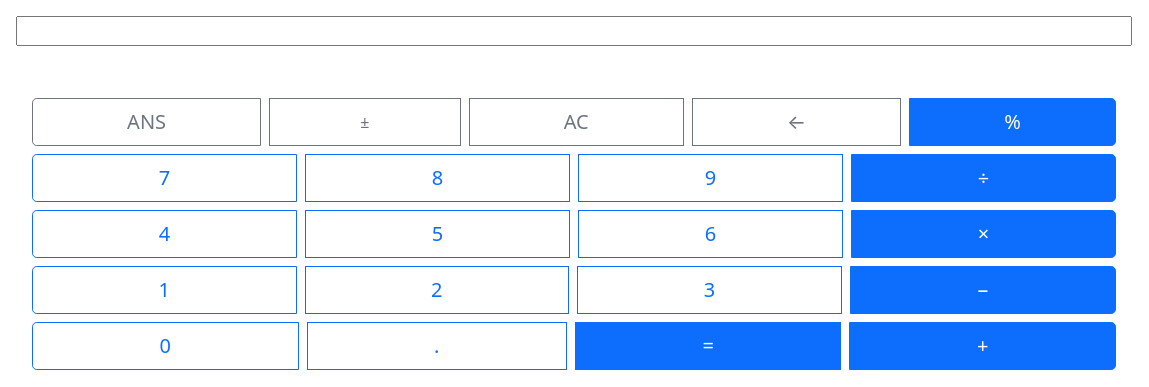
Test: Portfolio App Testing › Validar la operación módulo
Click the button "1" at x=164, y=290, box [32,266,297,314]
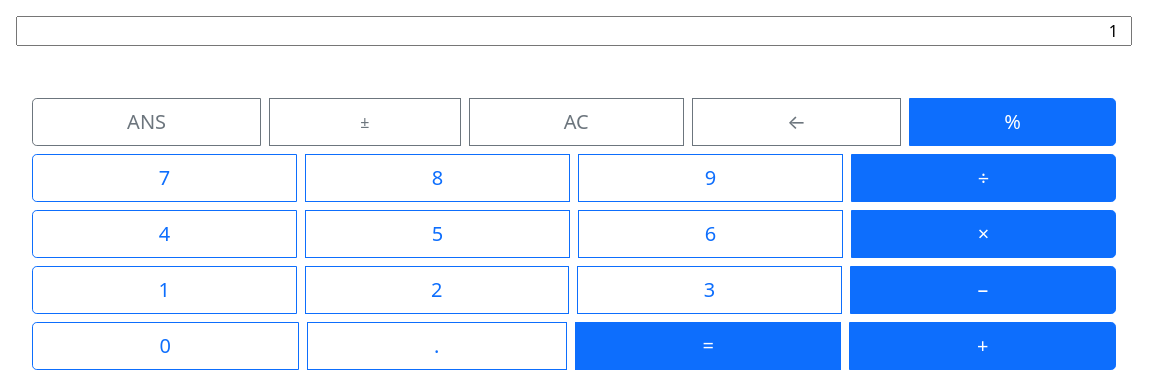
Click the button "2" at x=437, y=290, box [305,266,569,314]
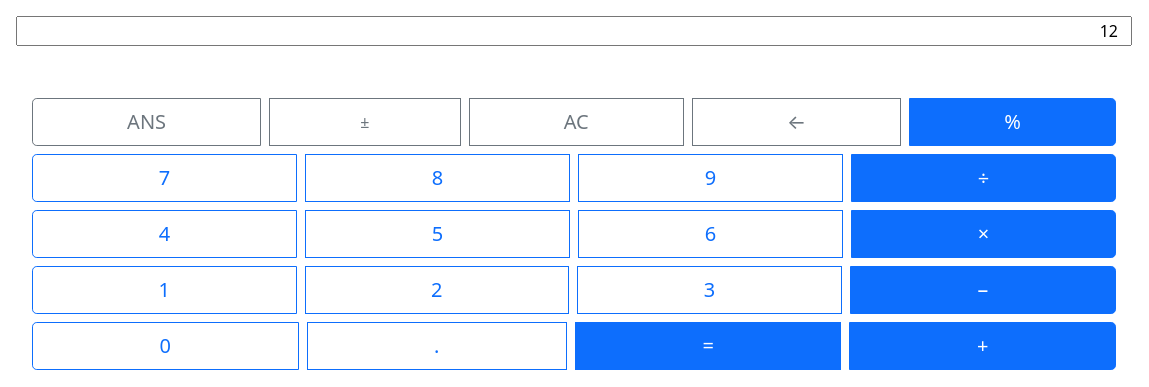
# Se da click al boton de operación módulo (%)
Click the button "%" at x=1012, y=122, box [909,98,1116,146]
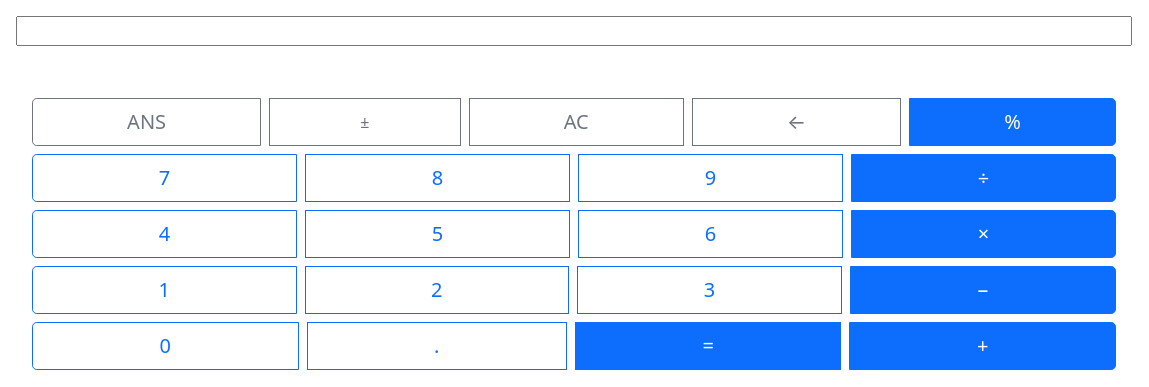
# Se ingresa otro número (7)
Click the button "7" at x=164, y=178, box [32,154,297,202]
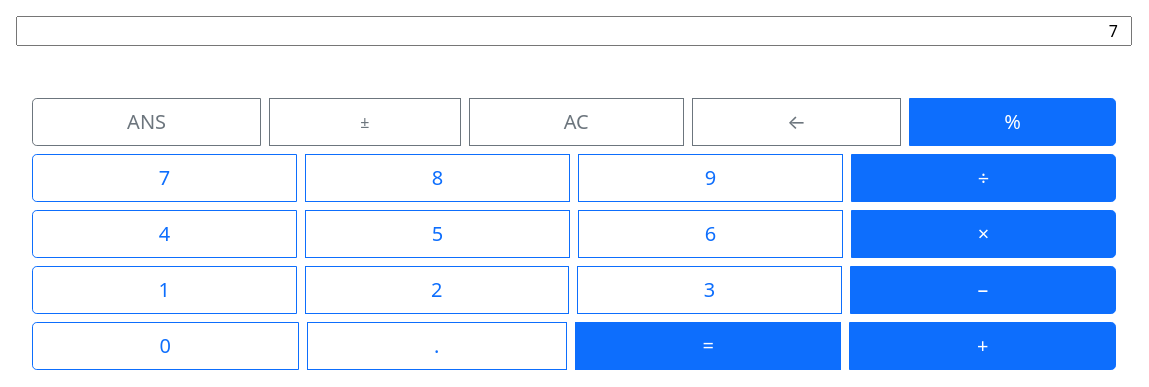
Click the button "=" at x=708, y=346, box [575,322,842,370]
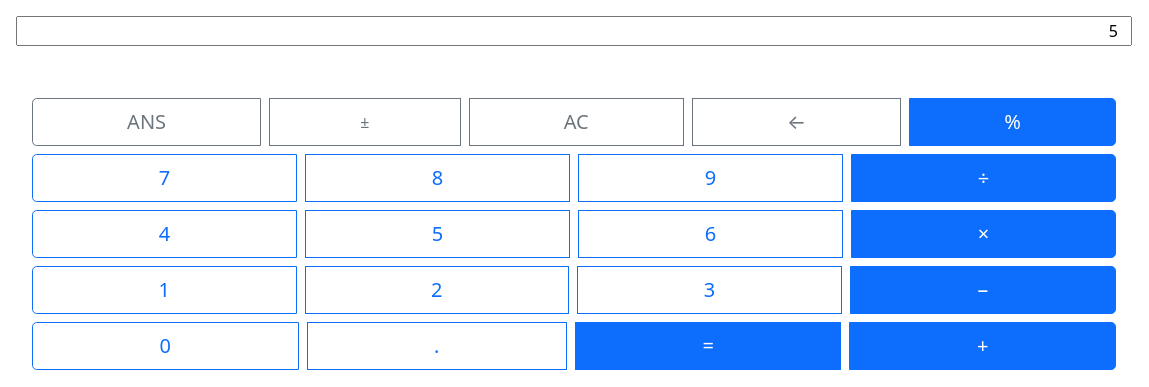
expect the field showing "5" is shown: met, box [16,16,1132,46]
